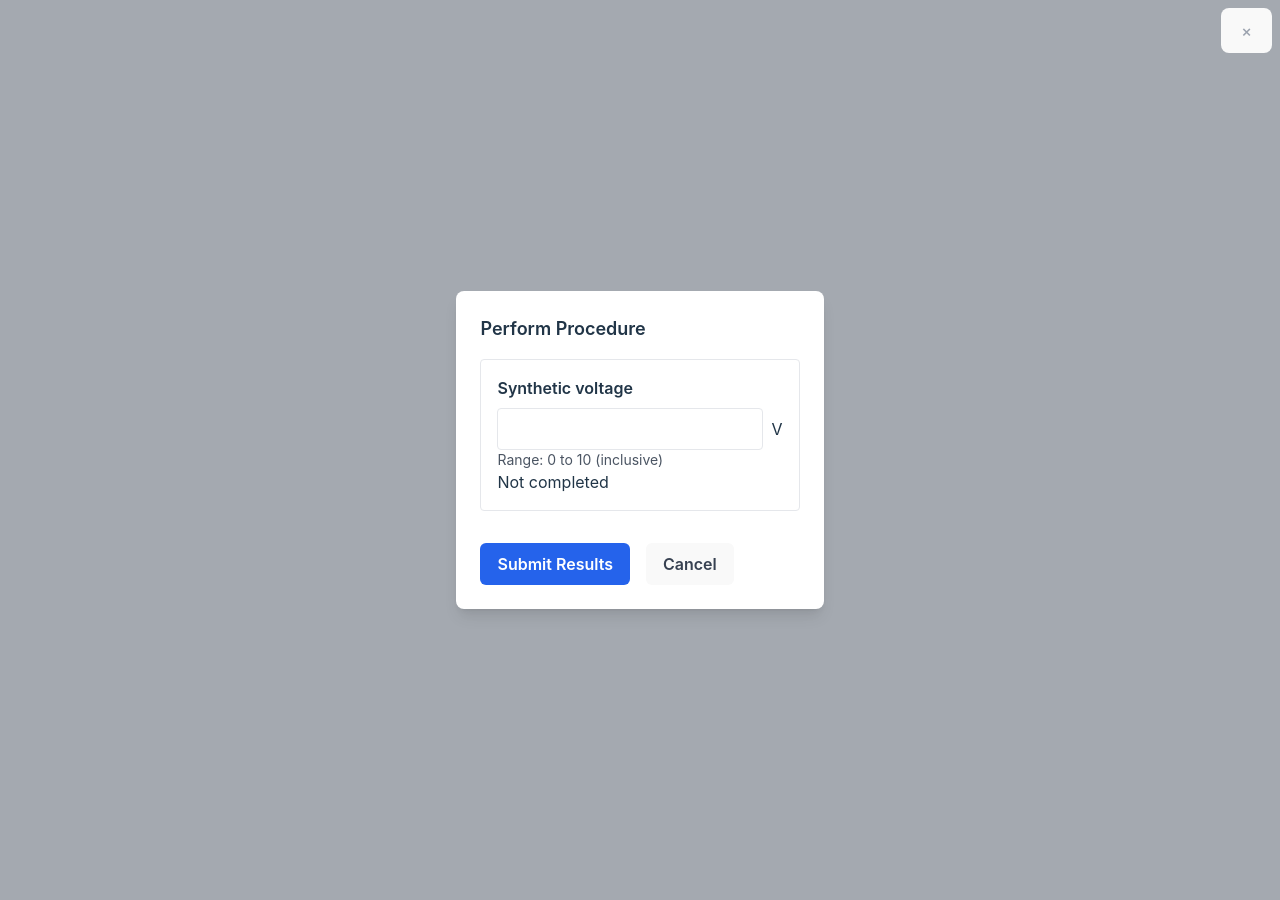
Test case: invalid or empty required input  cannot complete
The width and height of the screenshot is (1280, 900).
Click the button "Submit Results" at (555, 564), box [480,543,630,585]
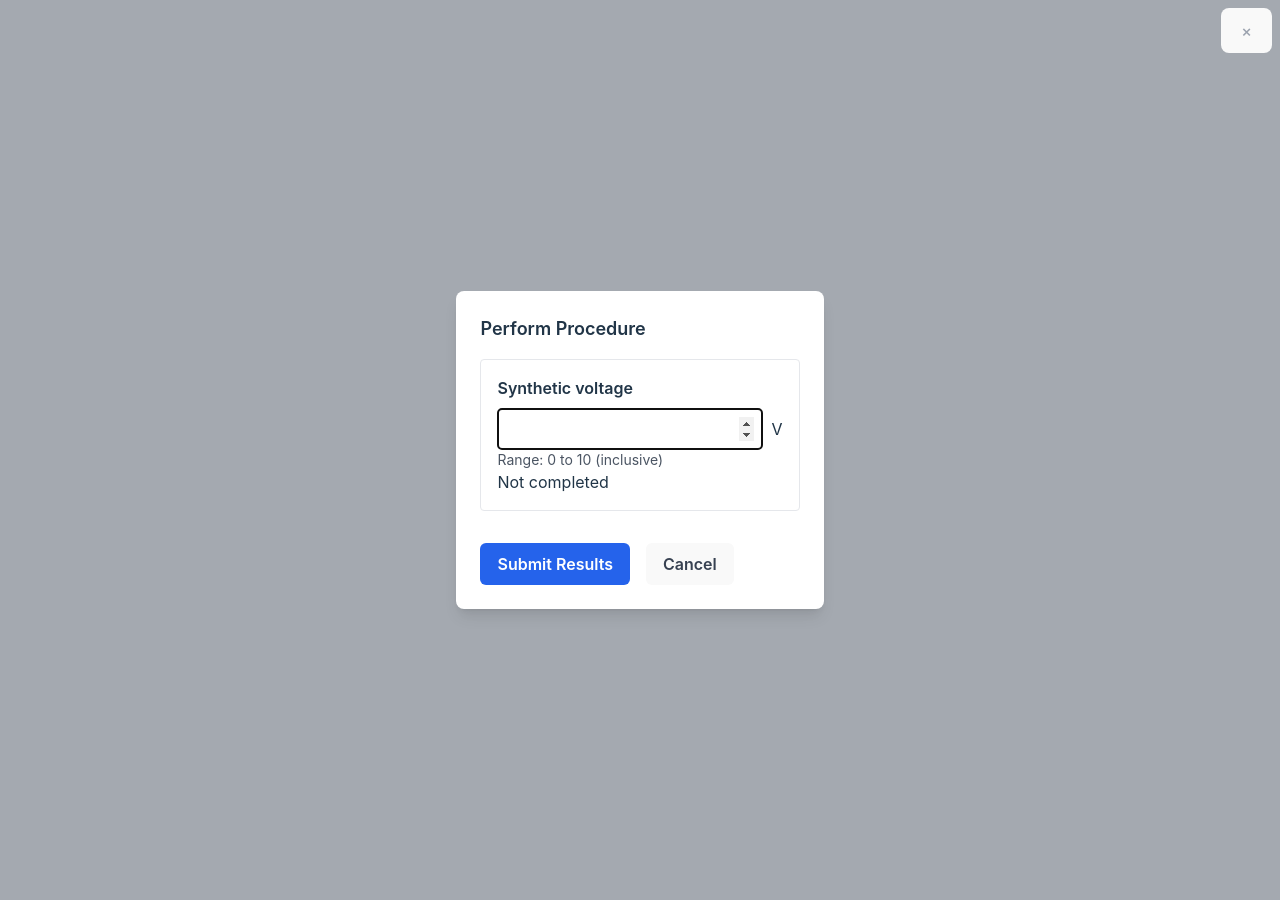
Submit the form "Synthetic voltage", box [480,359,800,585]
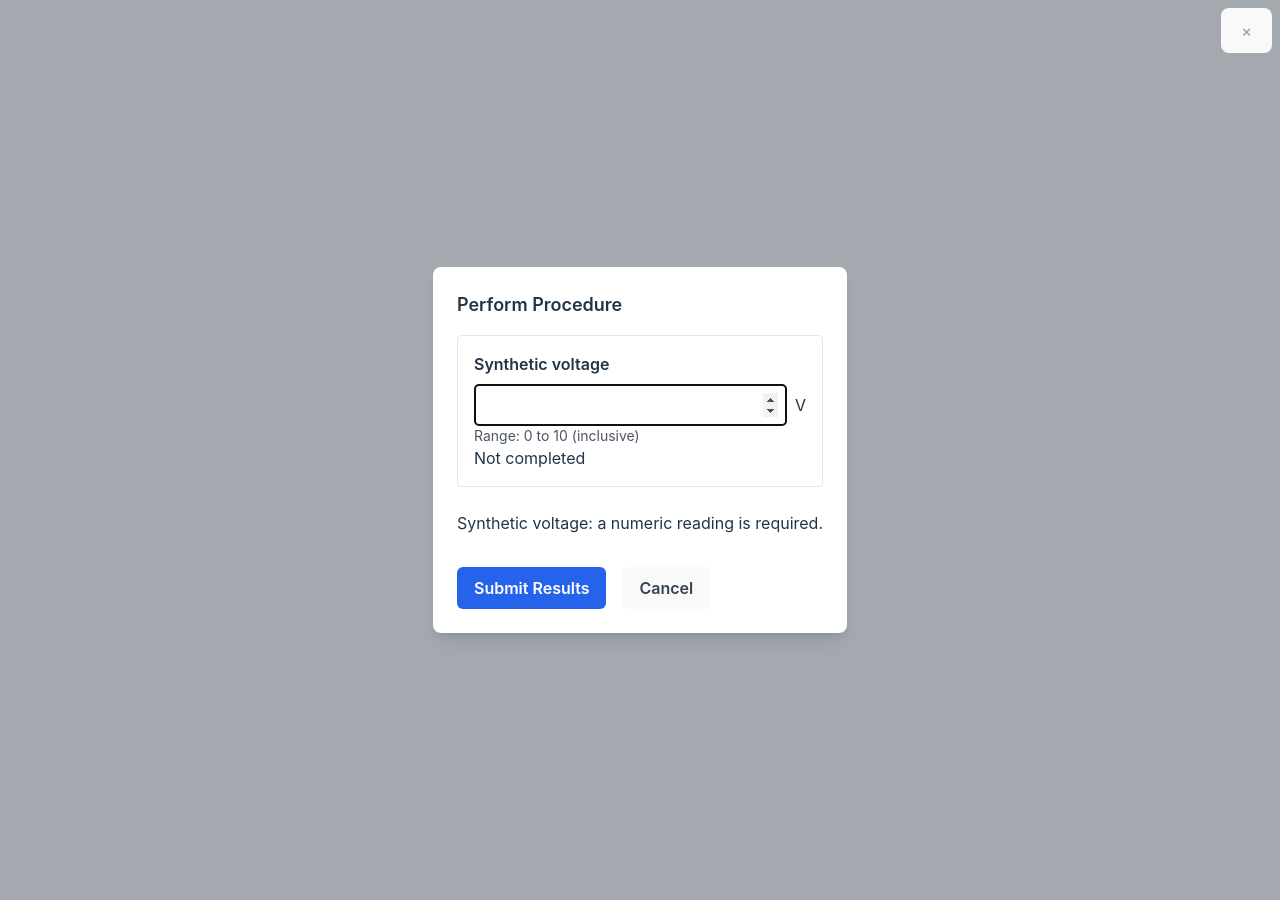
Check: the message "Synthetic voltage: a numeric reading is required." is shown, box [457,511,823,535]
